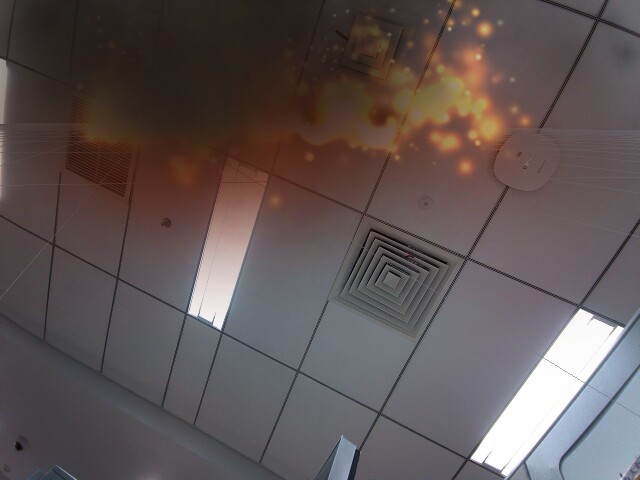fire: (298, 106, 344, 148)
